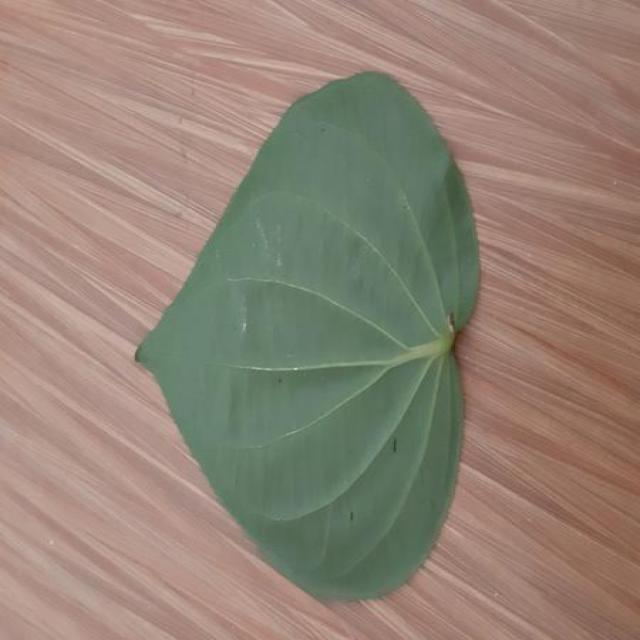betel: (137, 72, 478, 598)
